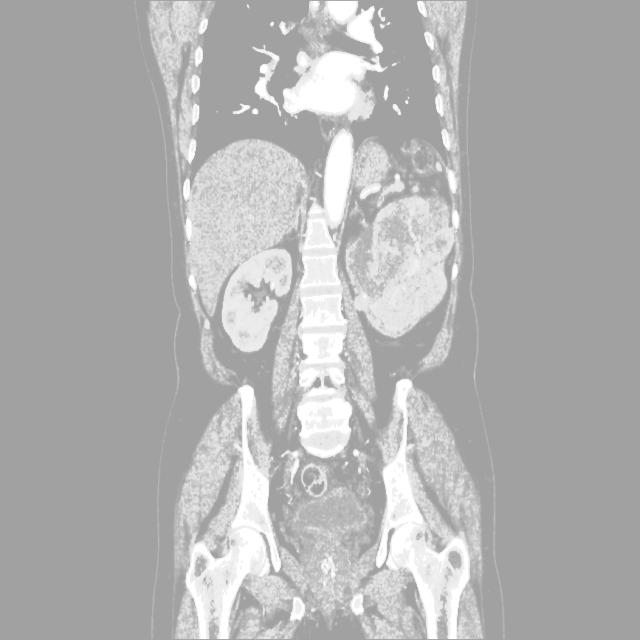TUMOR: (106, 153, 512, 366)
